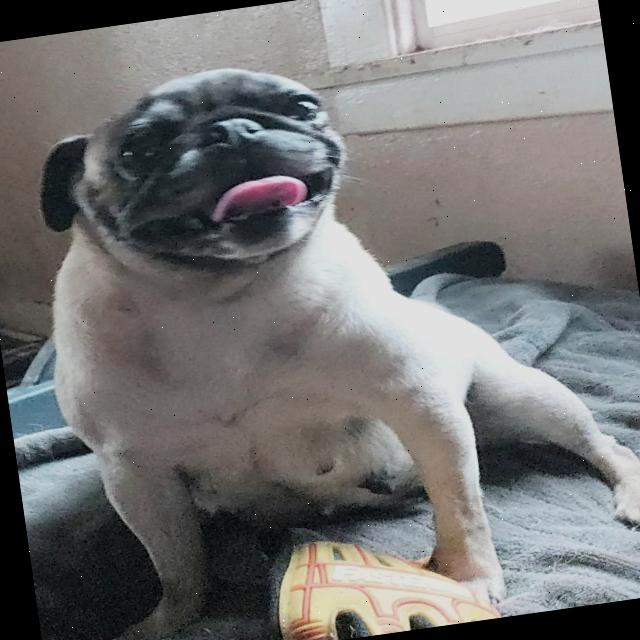pug_dog: (7, 37, 379, 323)
